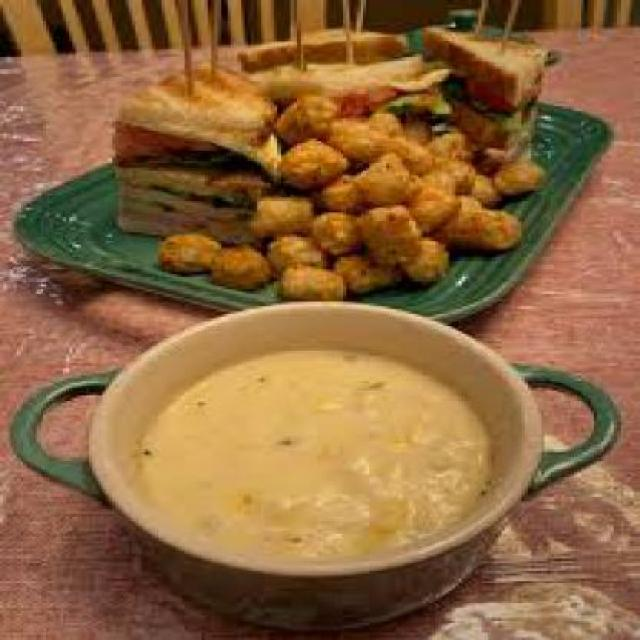clam chowder: (98, 302, 504, 586)
club sandwich: (115, 5, 528, 192)
gnocchi: (174, 114, 532, 297)
